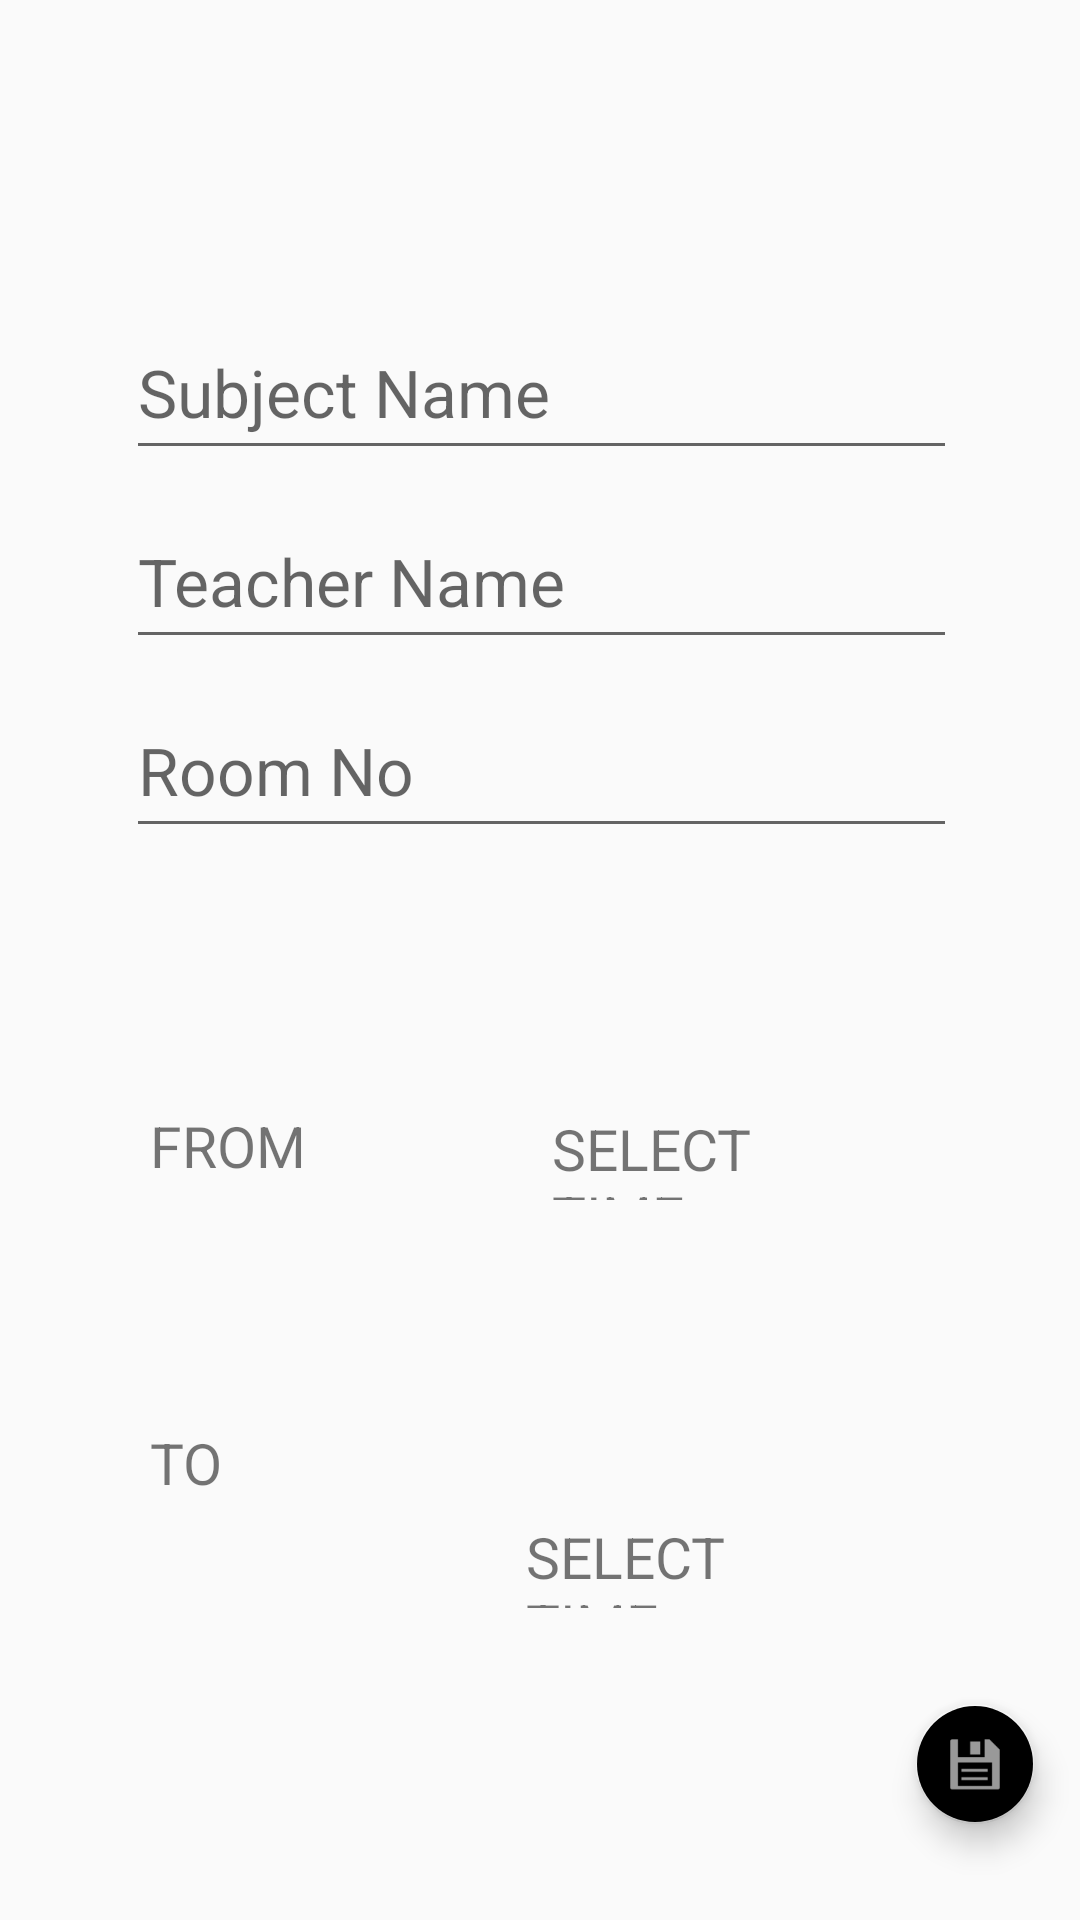

Screen size 1080x1920. Icon name, then its center in pixels as (x=x, y=y):
save: (x=976, y=1765)
